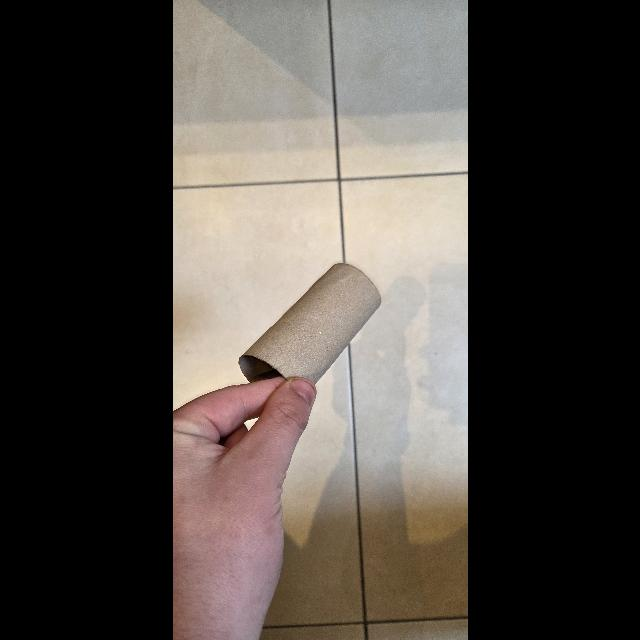Cardboard: (235, 262, 383, 390)
